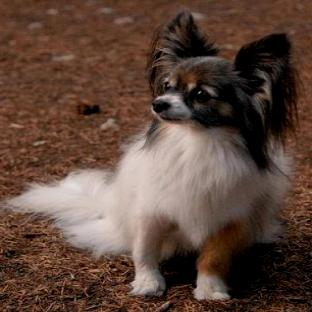Animal: (9, 13, 297, 299)
